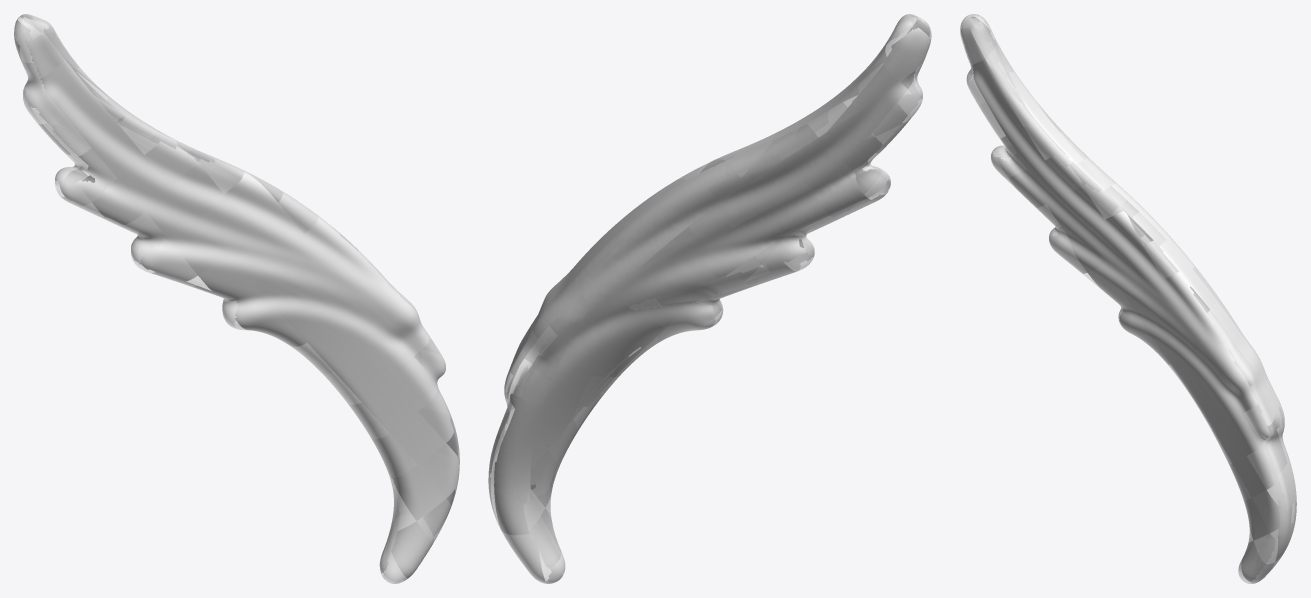
File: callout-leaf-bottom-transformed.glb
3 renders of one model, left to right at view 1: azimuth 30°, elevation 25°; view 2: azimuth 150°, elevation 25°; view 3: azimuth 330°, elevation 25°, orthographic. The views are drawn at different scales.
Parts seen in each view (by area): view 1: Announcement Area; view 2: Announcement Area; view 3: Announcement Area.
Boxes of the visible parts, box(x1,y1,x2,y2) form: Announcement Area: box(14, 14, 459, 583); Announcement Area: box(488, 14, 931, 583); Announcement Area: box(960, 14, 1296, 583).
Size of the model in its own units: 56.51 by 81.14 by 9.65.
Materials: 1 (1 with a texture image).
